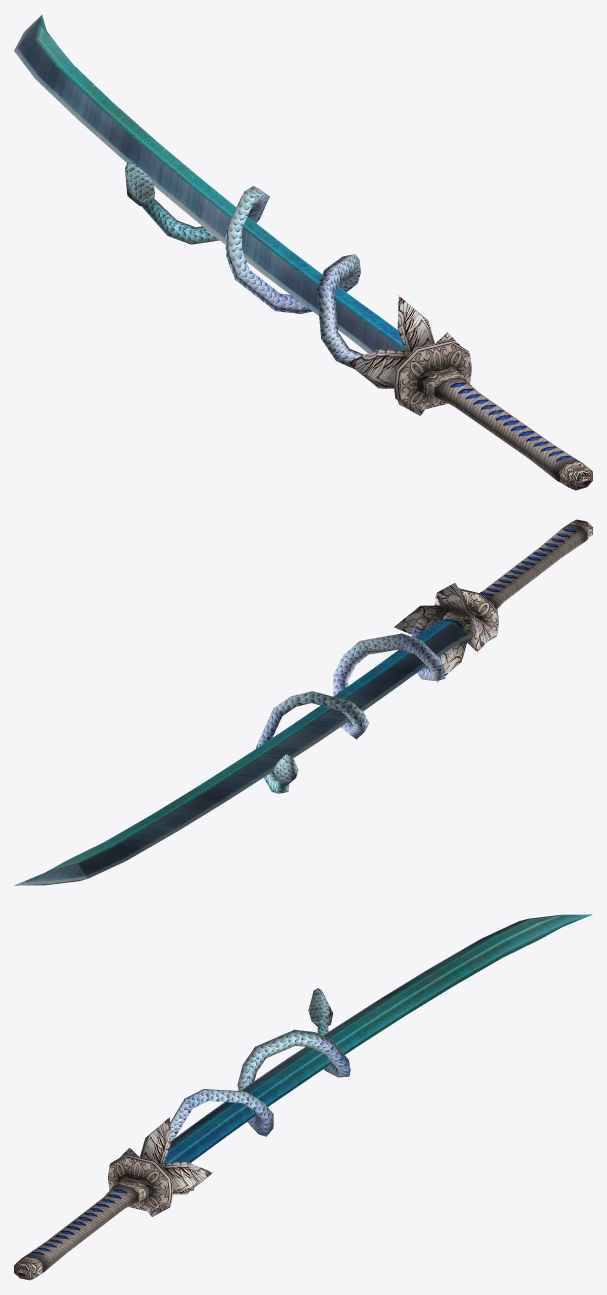
File: sword_muramasa_muramasa.glb
3 views of the same model, one above another, from view 1: azimuth 30°, elevation 25°; view 2: azimuth 150°, elevation 25°; view 3: azimuth 330°, elevation 25° (orthographic). The views are drawn at different scales.
Size of the model in its own units: 0.183 by 0.1484 by 1.52.
1 material, 1 textured.
